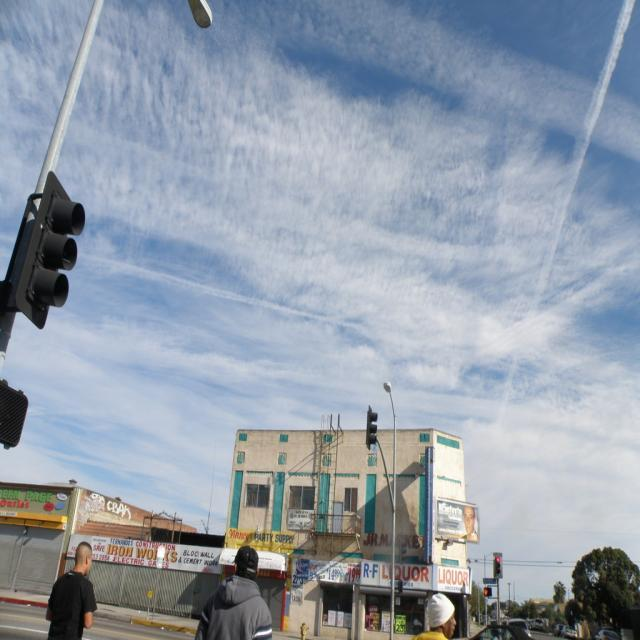traffic light: (39, 177, 81, 324)
